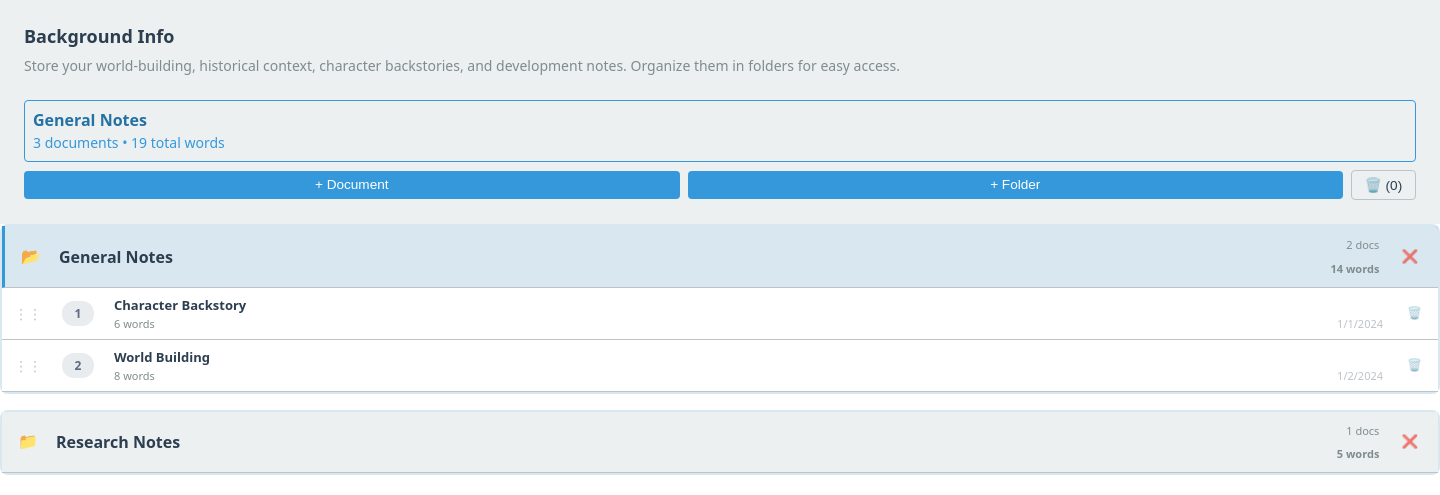
Test: BackgroundList Component › enables document title editing on double-click
This screenshot has width=1440, height=495.
Double-click the text "Character Backstory": (180, 305) x1=114 y1=296 x2=246 y2=314
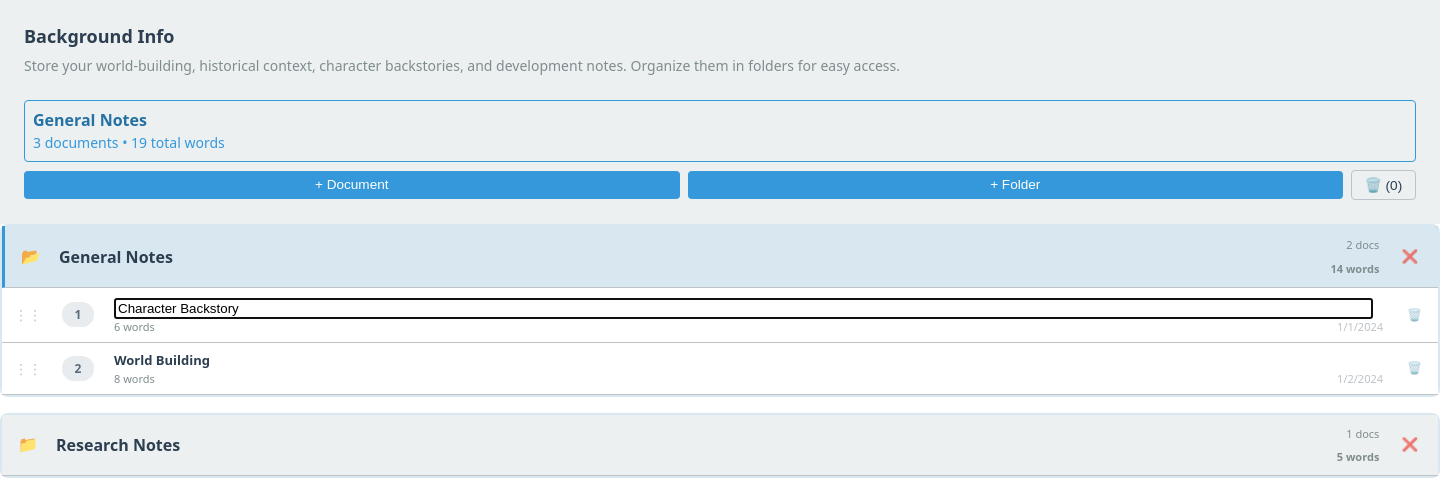
Expected: the field showing "Character Backstory" is shown, x1=114 y1=298 x2=1373 y2=319
